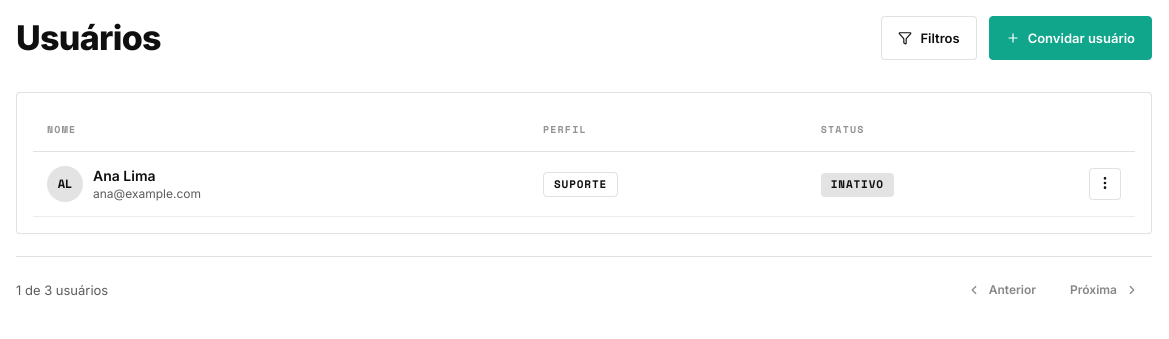
Usuarios — ADMIN/SUPORTE (veem tudo, criam tudo) › does not offer Reativar for an inactive user who never set a password
Expected: the text "Ana Lima" is shown, [93, 167, 156, 184]
Click the button named "Ações de Ana Lima" at (1105, 184), box [1089, 168, 1121, 200]
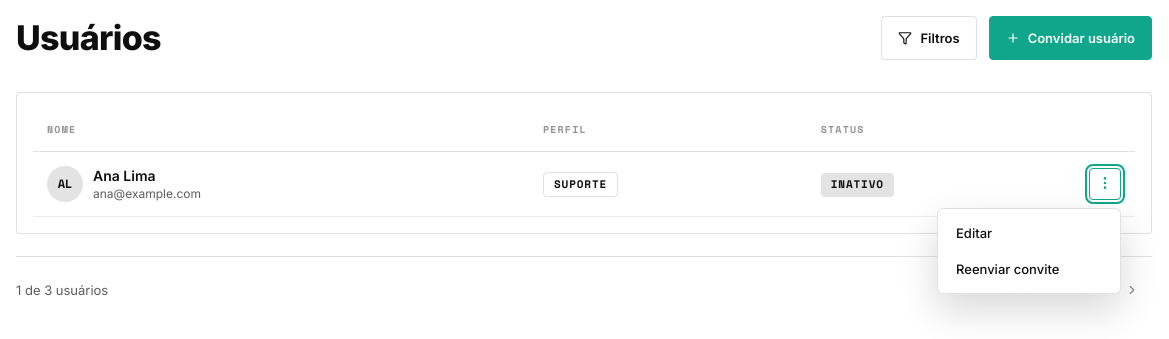
Expected: the menu item "Reenviar convite" is shown, [944, 251, 1114, 287]
